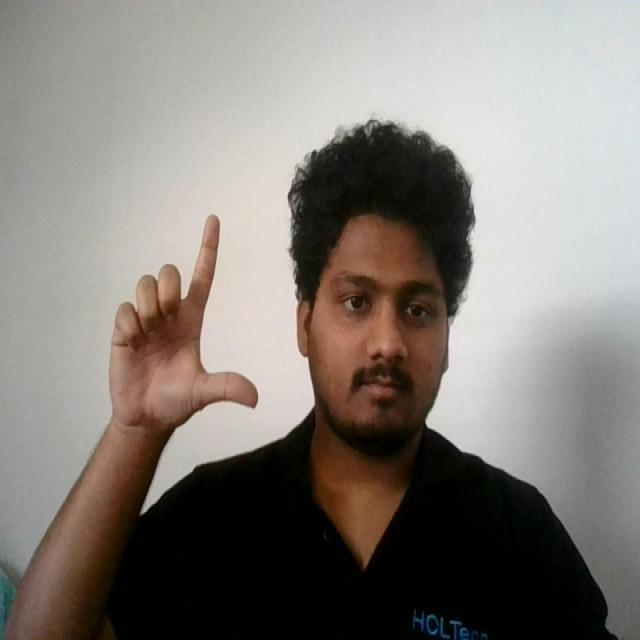IloveYou: (103, 210, 263, 448)
